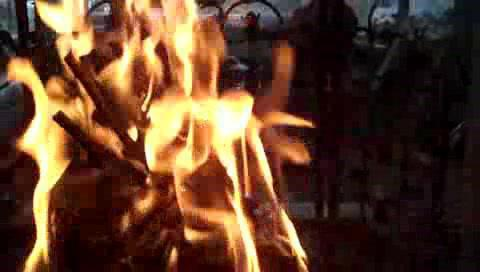fire: (0, 1, 312, 267)
